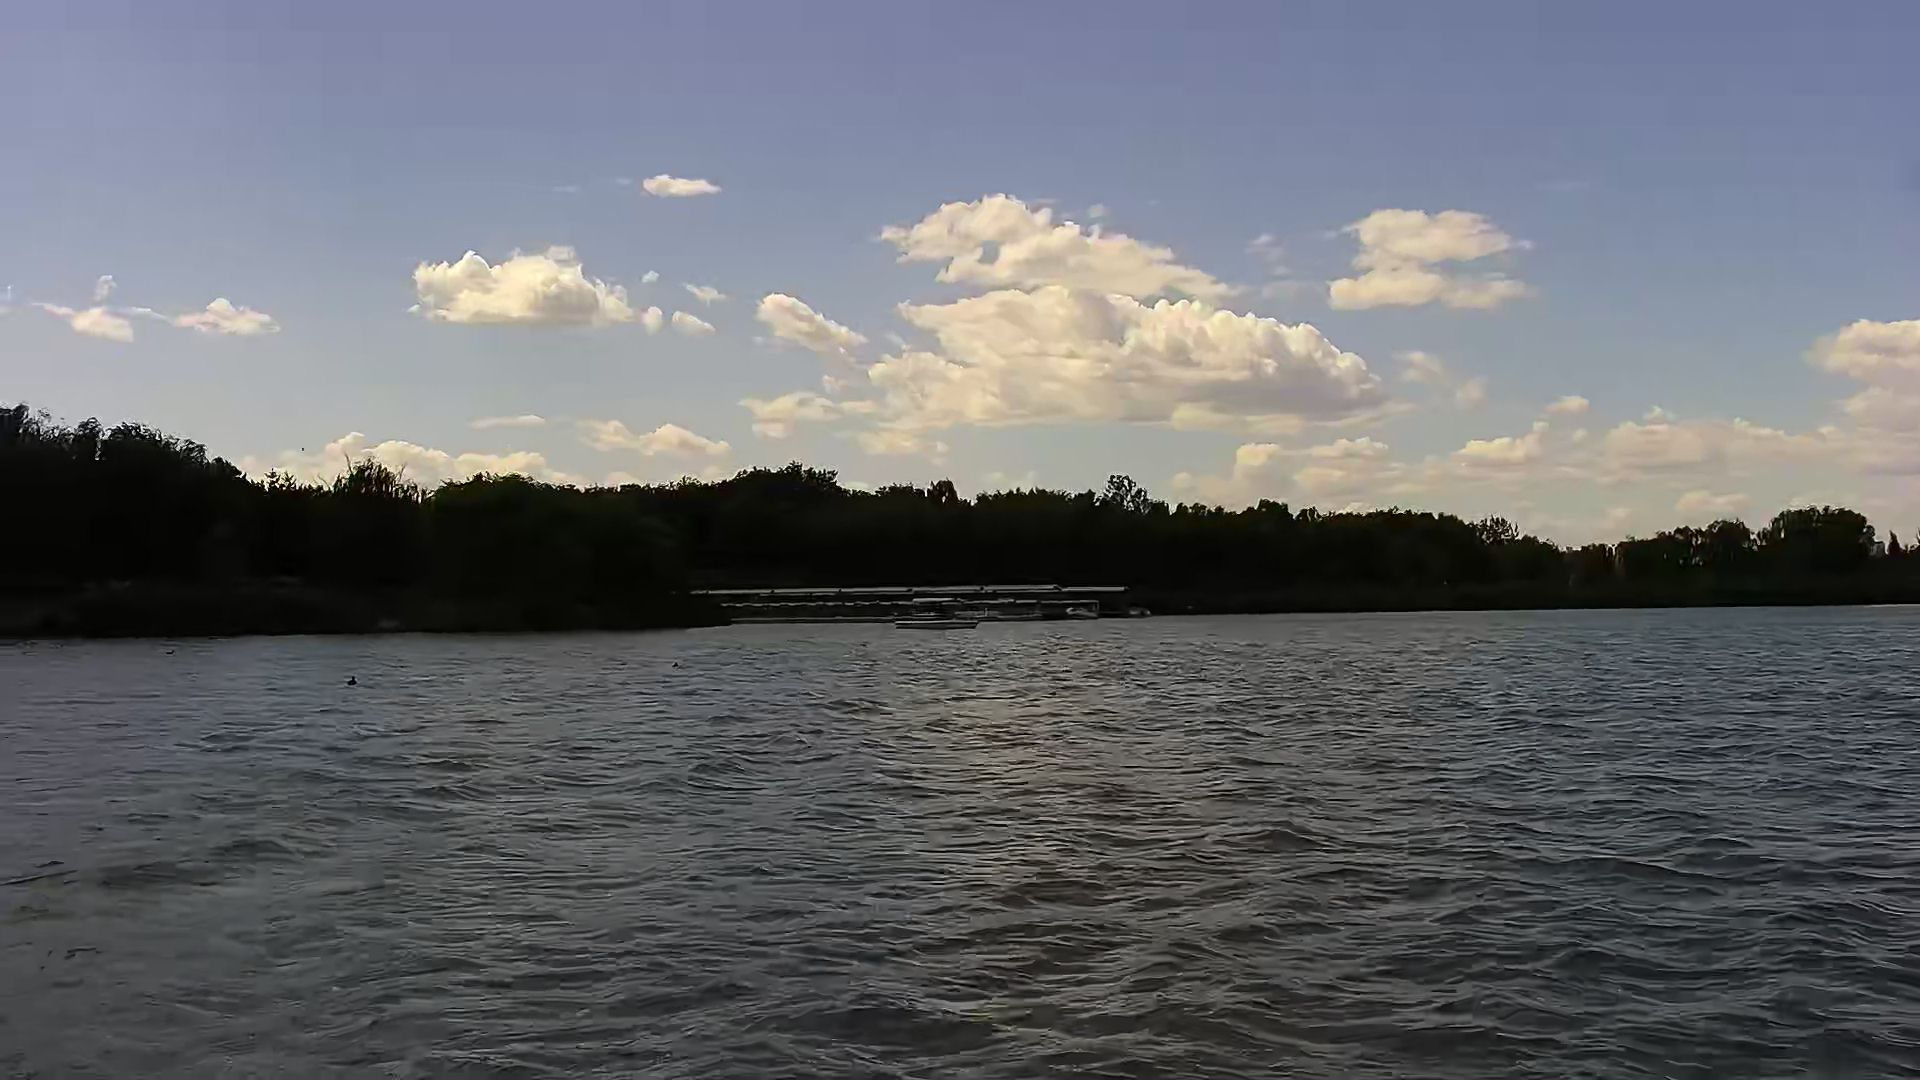harbor: (694, 574, 1138, 628)
